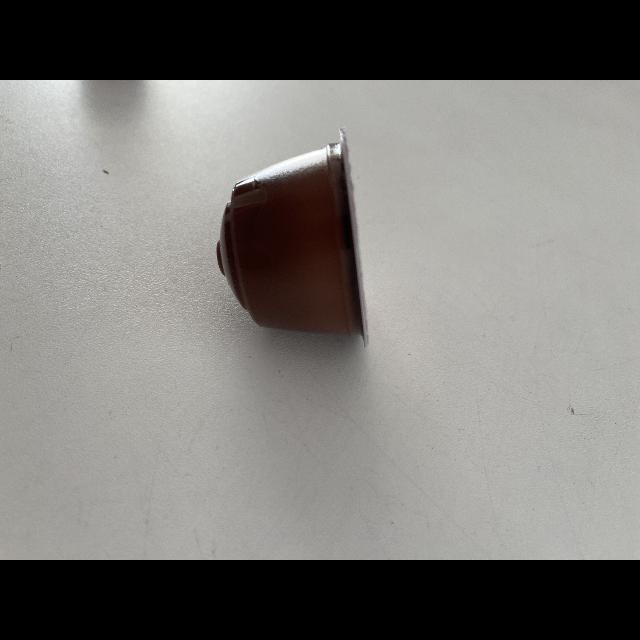intact_capsule: (198, 117, 386, 371)
